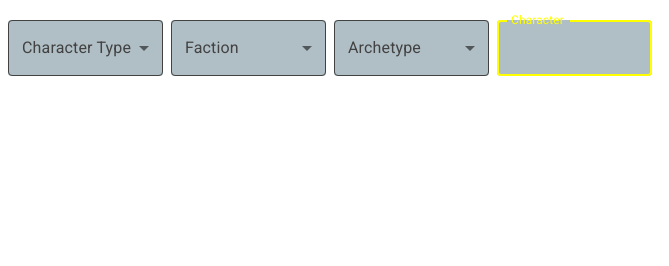
CharacterFilters Component › archetype filter › should display all archetype options
The image size is (669, 266).
Step 1. Press the mouse on the dropdown named "Archetype" next to "Archetype" → (412, 48), box x1=334 y1=20 x2=489 y2=76
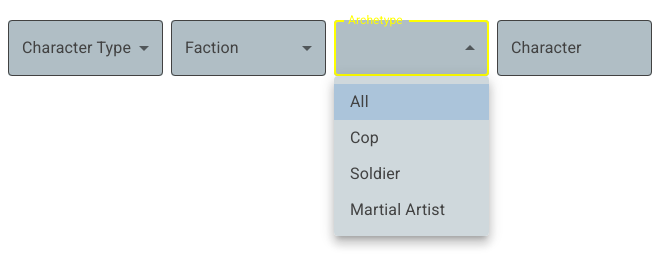
expect the option "All" is shown: met, box x1=334 y1=84 x2=489 y2=120
expect the option "Cop" is shown: met, box x1=350 y1=128 x2=379 y2=147
expect the option "Soldier" is shown: met, box x1=350 y1=164 x2=400 y2=183
